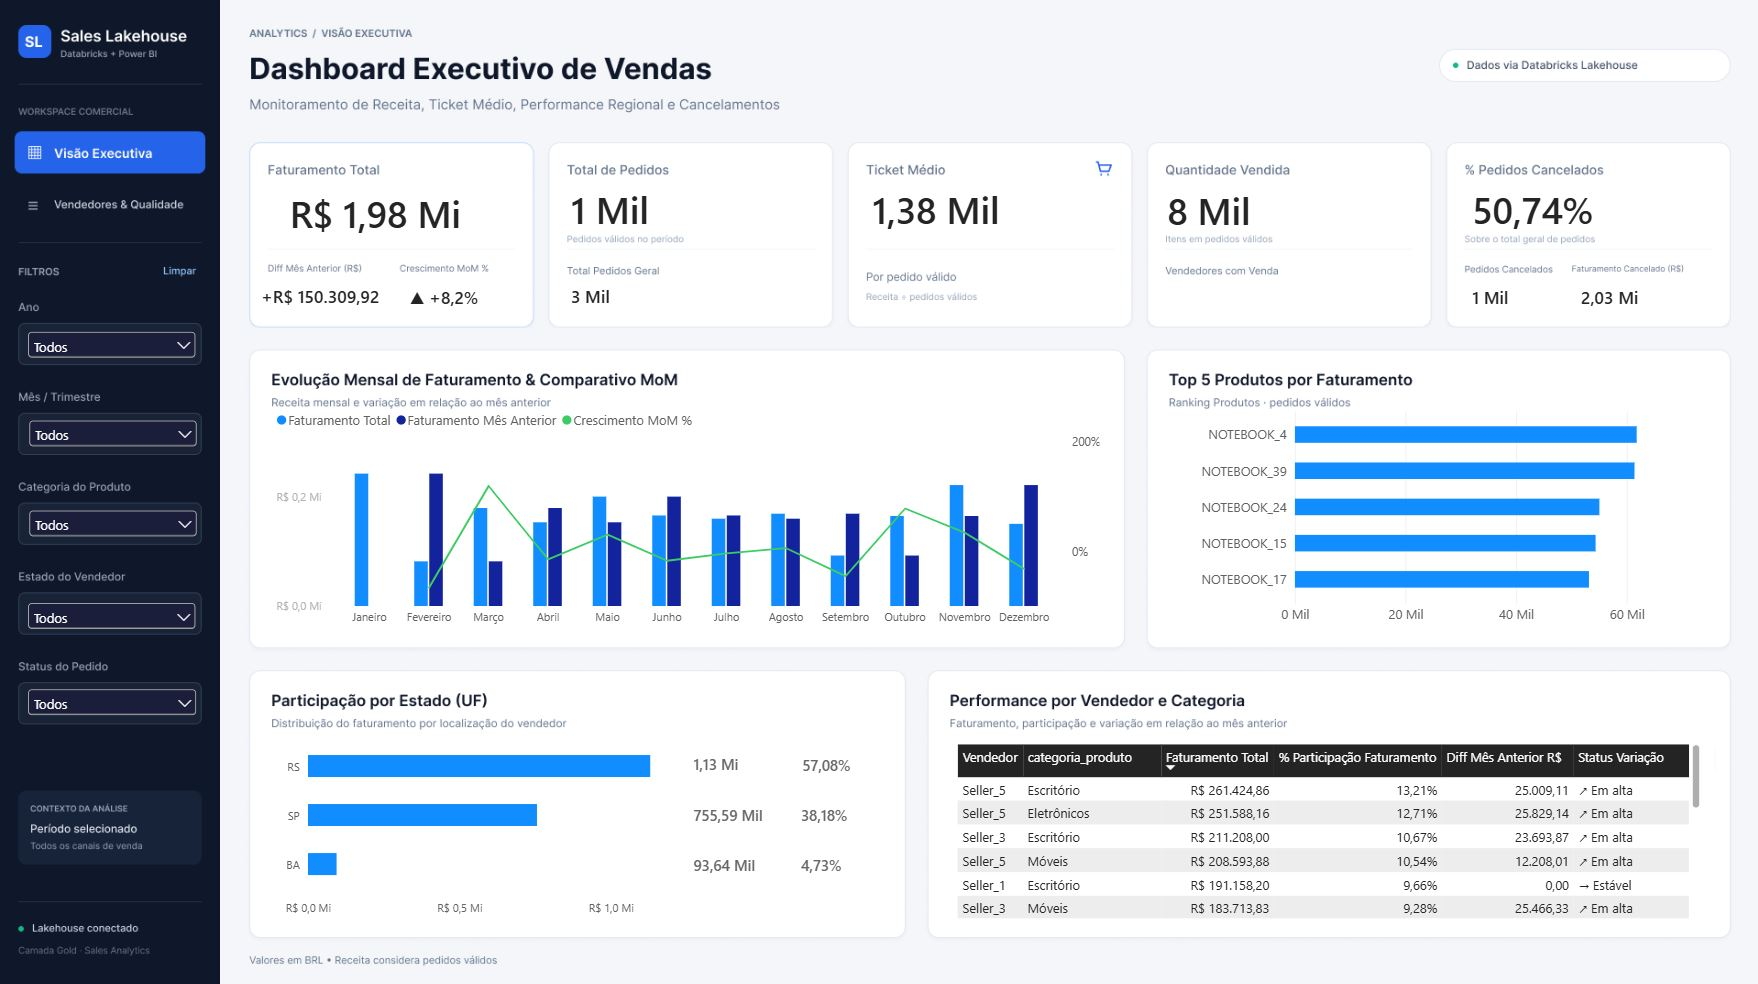

What the dashboard file says about the page in this screenshot:
{"tool":"powerbi","page":{"name":"Vendas","canvas":[1920,1080],"ordinal":0},"visuals":[{"type":"cardVisual","fields":{"Data":["Medidas.Faturamento Total"]},"box":[300,198.9,257.8,67.5],"z":0},{"type":"cardVisual","fields":{"Data":["Medidas.Diff Mês Anterior R$"]},"box":[269,288.5,170.1,69],"z":1000},{"type":"cardVisual","fields":{"Data":["Medidas.Crescimento MoM %"]},"box":[430.6,289.8,126.5,67.5],"z":2000},{"type":"cardVisual","fields":{"Data":["Medidas.Total de Pedidos"]},"box":[606.9,190.8,257.5,75.9],"z":3000},{"type":"cardVisual","fields":{"Data":["Medidas.Total Pedidos Geral"]},"box":[606.9,289.7,170.1,69],"z":4000},{"type":"cardVisual","fields":{"Data":["Medidas.Ticket Médio"]},"box":[935.6,190.8,257.5,75.9],"z":5000},{"type":"cardVisual","fields":{"Data":["Medidas.Quantidade Vendida"]},"box":[1256.8,192,258,75],"z":6000},{"type":"cardVisual","fields":{"Data":["Medidas.% Pedidos Cancelados"]},"box":[1589.8,190.9,258,75],"z":7000},{"type":"cardVisual","fields":{"Data":["Medidas.Pedidos Cancelados"]},"box":[1589.8,289.8,150,69.3],"z":8000},{"type":"cardVisual","fields":{"Data":["Medidas.Faturamento Cancelado"]},"box":[1709.1,289.8,150,69.3],"z":9000},{"type":"lineClusteredColumnComboChart","fields":{"Category":["dim_tempo.nome_mes"],"Y":["Medidas.Faturamento Total","Medidas.Faturamento Mês Anterior"],"Y2":["Medidas.Crescimento MoM %"]},"box":[285.5,427.5,930.4,273.9],"z":9001},{"type":"clusteredBarChart","fields":{"Category":["dim_vendedor.estado_vendedor"],"Y":["Medidas.Faturamento Total"]},"box":[285.5,779.7,465.2,239.1],"z":9002},{"type":"cardVisual","fields":{"Data":["Medidas.Faturamento RS"]},"box":[740,798.6,170.1,69],"z":9003},{"type":"cardVisual","fields":{"Data":["Medidas.Faturamento SP"]},"box":[740,855.1,170.1,69],"z":9004},{"type":"cardVisual","fields":{"Data":["Medidas.Faturamento BA"]},"box":[740,910.1,170.1,69],"z":9005},{"type":"cardVisual","fields":{"Data":["Medidas.% Participação RS"]},"box":[858.7,799.9,170.1,69],"z":9006},{"type":"cardVisual","fields":{"Data":["Medidas.% Participação SP"]},"box":[858,855.1,170.1,69],"z":9007},{"type":"cardVisual","fields":{"Data":["Medidas.% Participação BA"]},"box":[858,910.1,170.1,69],"z":9008},{"type":"clusteredBarChart","fields":{"Category":["dim_produto.nome_produto"],"Y":["Medidas.Faturamento Top 5 Produtos"]},"box":[1289.2,427,582.4,274.3],"z":9009},{"type":"tableEx","fields":{"Values":["dim_vendedor.nome_vendedor","dim_produto.categoria_produto","Medidas.Faturamento Total","Medidas.% Participação Faturamento","Medidas.Diff Mês Anterior R$","Medidas.Status Variação"]},"box":[1027.8,798.1,842.6,220.4],"z":9010},{"type":"slicer","fields":{"Values":["dim_tempo.ano"]},"box":[25.6,357.7,192.3,38.5],"z":9011},{"type":"slicer","fields":{"Values":["dim_tempo.nome_mes"]},"box":[26.9,453.8,192.3,39.7],"z":9012},{"type":"slicer","fields":{"Values":["dim_produto.categoria_produto"]},"box":[26.9,552.6,192.3,39.7],"z":9013},{"type":"slicer","fields":{"Values":["dim_vendedor.estado_vendedor"]},"box":[25.6,652.6,192.3,39.7],"z":9014},{"type":"slicer","fields":{"Values":["fato_vendas.status"]},"box":[25.7,747.3,193.2,40.5],"z":9015}]}

Visuals, with their boxes on the page's 1920x1080 design canvas (x1, y1, x2, y2). These are canvas units, not pixel positions in the 1758x984 screenshot, which may show the page scaled, cropped or inside an application window:
cardVisual - Medidas.Faturamento Total: (300, 199, 558, 266)
cardVisual - Medidas.Diff Mês Anterior R$: (269, 288, 439, 358)
cardVisual - Medidas.Crescimento MoM %: (431, 290, 557, 357)
cardVisual - Medidas.Total de Pedidos: (607, 191, 864, 267)
cardVisual - Medidas.Total Pedidos Geral: (607, 290, 777, 359)
cardVisual - Medidas.Ticket Médio: (936, 191, 1193, 267)
cardVisual - Medidas.Quantidade Vendida: (1257, 192, 1515, 267)
cardVisual - Medidas.% Pedidos Cancelados: (1590, 191, 1848, 266)
cardVisual - Medidas.Pedidos Cancelados: (1590, 290, 1740, 359)
cardVisual - Medidas.Faturamento Cancelado: (1709, 290, 1859, 359)
lineClusteredColumnComboChart - dim_tempo.nome_mes x Medidas.Faturamento Total: (286, 428, 1216, 701)
clusteredBarChart - dim_vendedor.estado_vendedor x Medidas.Faturamento Total: (286, 780, 751, 1019)
cardVisual - Medidas.Faturamento RS: (740, 799, 910, 868)
cardVisual - Medidas.Faturamento SP: (740, 855, 910, 924)
cardVisual - Medidas.Faturamento BA: (740, 910, 910, 979)
cardVisual - Medidas.% Participação RS: (859, 800, 1029, 869)
cardVisual - Medidas.% Participação SP: (858, 855, 1028, 924)
cardVisual - Medidas.% Participação BA: (858, 910, 1028, 979)
clusteredBarChart - dim_produto.nome_produto x Medidas.Faturamento Top 5 Produtos: (1289, 427, 1872, 701)
tableEx - dim_vendedor.nome_vendedor x dim_produto.categoria_produto: (1028, 798, 1870, 1018)
slicer - dim_tempo.ano: (26, 358, 218, 396)
slicer - dim_tempo.nome_mes: (27, 454, 219, 494)
slicer - dim_produto.categoria_produto: (27, 553, 219, 592)
slicer - dim_vendedor.estado_vendedor: (26, 653, 218, 692)
slicer - fato_vendas.status: (26, 747, 219, 788)
